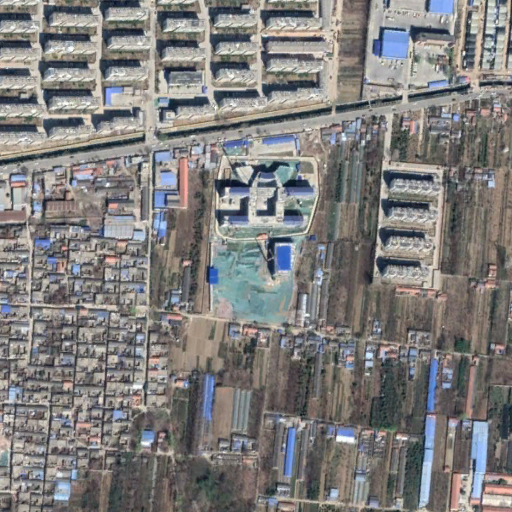cw: (208, 238, 298, 325)
